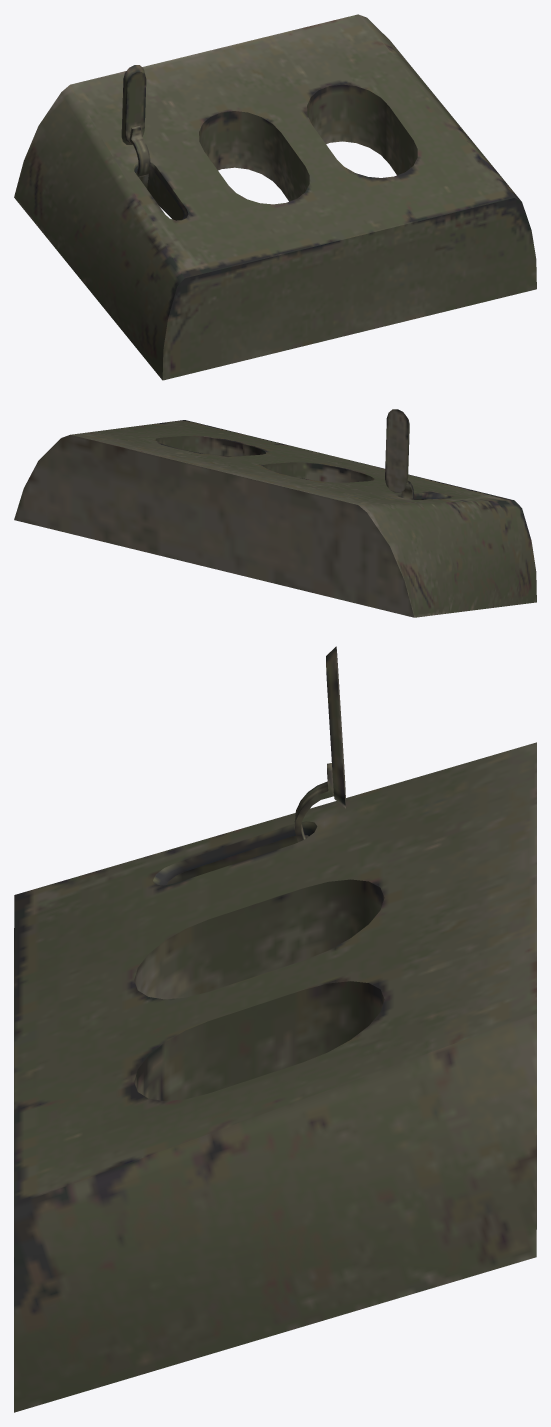
File: Turret_01.glb
3 renders of one model, top to bottom at view 1: azimuth 30°, elevation 25°; view 2: azimuth 150°, elevation 25°; view 3: azimuth 270°, elevation 25°, orthographic. The views are drawn at different scales.
Parts seen in each view (by area): view 1: set_0_group_0; view 2: set_0_group_0; view 3: set_0_group_0.
Part boxes in pixels (x1,y1,x2,y2): set_0_group_0: [14, 14, 536, 380]; set_0_group_0: [14, 409, 536, 617]; set_0_group_0: [14, 646, 536, 1412].
Bounding box in the file's own units: 1.49 × 0.8542 × 0.8719.
1 material, 1 textured.
